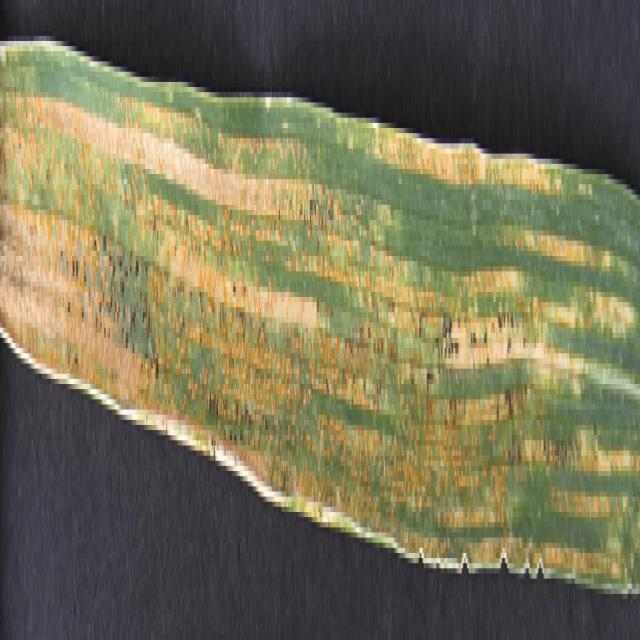leaf rust: (2, 56, 633, 564)
